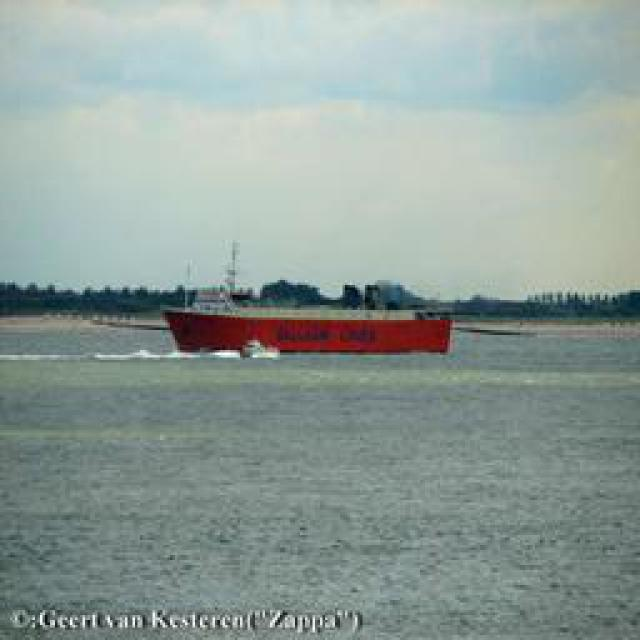Ship: (165, 307, 458, 360)
